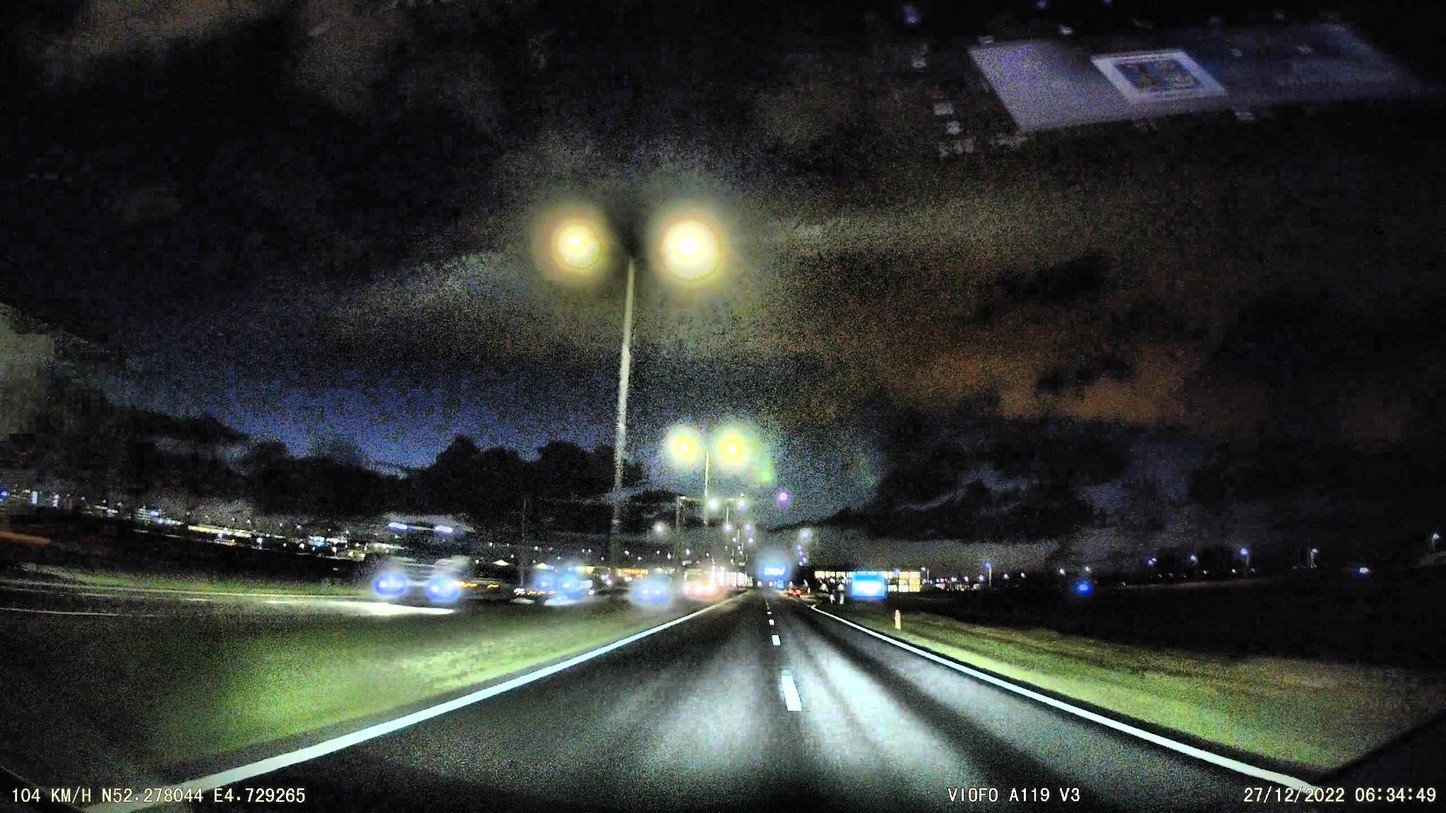Roads: (291, 588, 1203, 813)
